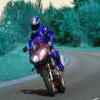motorcycles: (27, 41, 66, 98)
